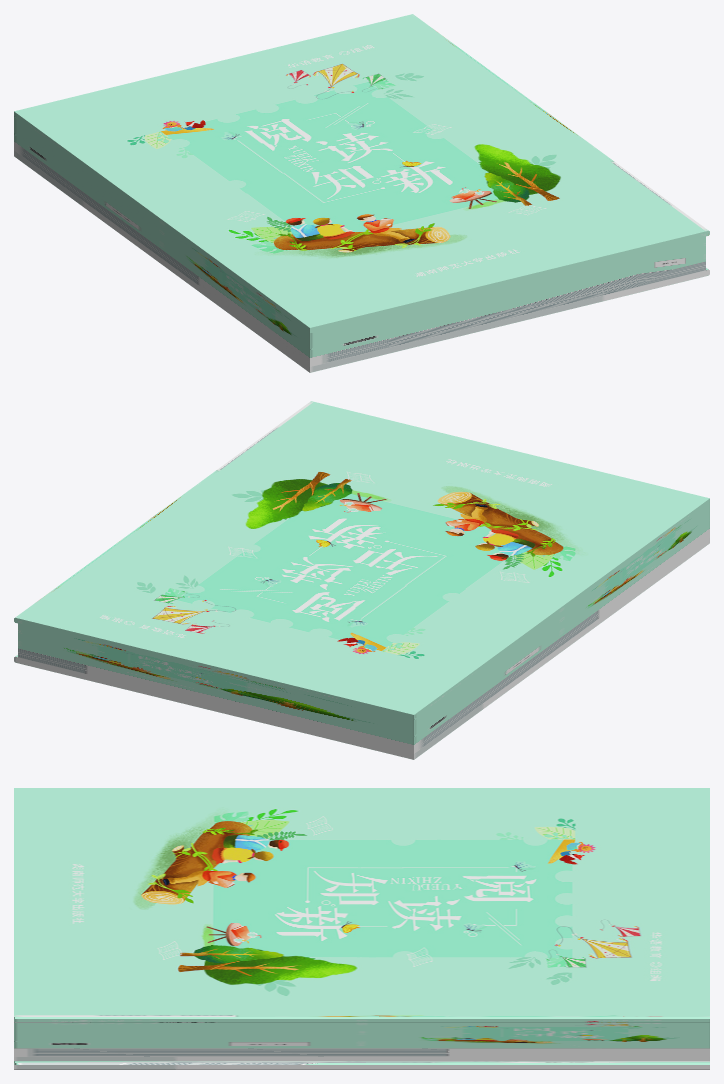
The model's file is fenli.FBX.
3 renders of one model, top to bottom at view 1: azimuth 30°, elevation 25°; view 2: azimuth 150°, elevation 25°; view 3: azimuth 270°, elevation 25°, orthographic. The views are drawn at different scales.
Visible parts, largest first — view 1: 02, 07, 06, 03, 05, 08, 10, 01, 04, 09, 17, 15 (+2 smaller); view 2: 06, 10, 07, 05, 03, 08, 02, 04, 01, 09, 11, 12 (+2 smaller); view 3: 06, 07, 05, 03, 08, 02, 04, 01, 10, 09, 13, 14 (+3 smaller).
Boxes of the visible parts, x1=… form: 02: x1=388, y1=200, x2=638, y2=347; 07: x1=228, y1=148, x2=499, y2=249; 06: x1=196, y1=14, x2=486, y2=136; 03: x1=236, y1=229, x2=433, y2=357; 05: x1=208, y1=68, x2=560, y2=150; 08: x1=88, y1=134, x2=322, y2=241; 10: x1=14, y1=67, x2=207, y2=209; 01: x1=500, y1=176, x2=709, y2=262; 04: x1=455, y1=122, x2=634, y2=199; 09: x1=162, y1=203, x2=274, y2=312; 17: x1=236, y1=296, x2=388, y2=372; 15: x1=388, y1=268, x2=709, y2=353; 06: x1=14, y1=563, x2=367, y2=692; 10: x1=231, y1=631, x2=487, y2=759; 07: x1=269, y1=492, x2=524, y2=590; 05: x1=89, y1=509, x2=368, y2=631; 03: x1=488, y1=479, x2=709, y2=574; 08: x1=341, y1=582, x2=561, y2=682; 02: x1=353, y1=418, x2=630, y2=492; 04: x1=163, y1=455, x2=351, y2=534; 01: x1=237, y1=401, x2=381, y2=492; 09: x1=496, y1=552, x2=635, y2=645; 11: x1=14, y1=640, x2=155, y2=696; 12: x1=156, y1=674, x2=231, y2=715; 06: x1=536, y1=856, x2=709, y2=1041; 07: x1=129, y1=826, x2=431, y2=956; 05: x1=362, y1=857, x2=535, y2=1041; 03: x1=14, y1=788, x2=272, y2=886; 08: x1=362, y1=788, x2=596, y2=897; 02: x1=14, y1=833, x2=210, y2=976; 04: x1=188, y1=945, x2=361, y2=1041; 01: x1=14, y1=945, x2=210, y2=1041; 10: x1=536, y1=788, x2=709, y2=892; 09: x1=188, y1=788, x2=361, y2=831; 13: x1=362, y1=1041, x2=535, y2=1069; 14: x1=188, y1=1041, x2=361, y2=1069.
Size of the model in its own units: 28.44 by 3.06 by 36.45.
